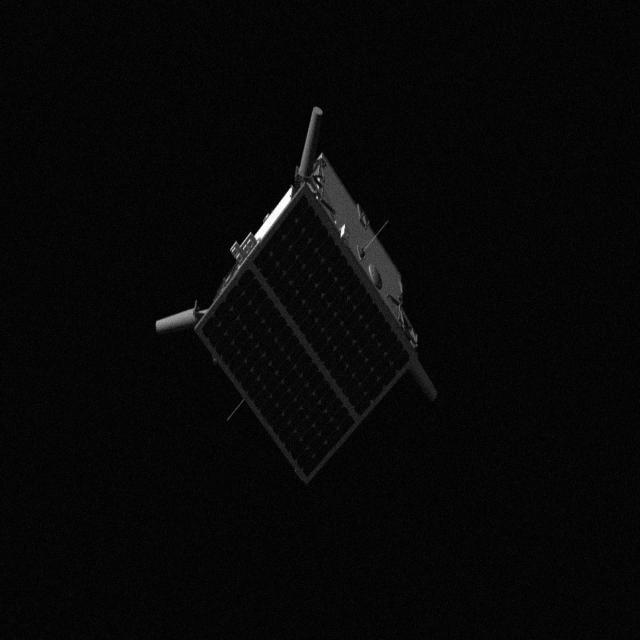medium_debris: (148, 116, 452, 488)
